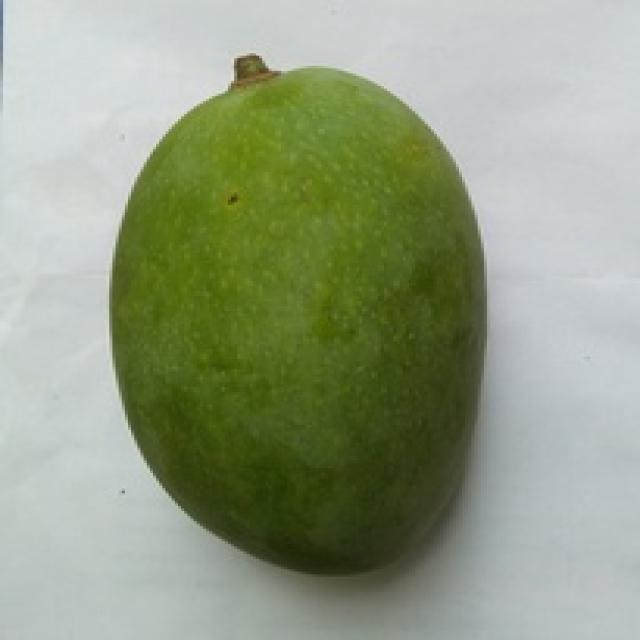Mango: (112, 68, 481, 569)
